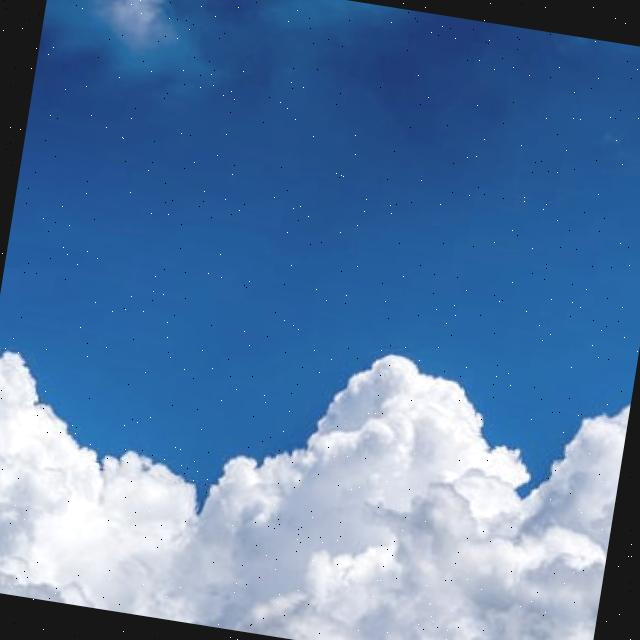Cu: (1, 200, 640, 640)
